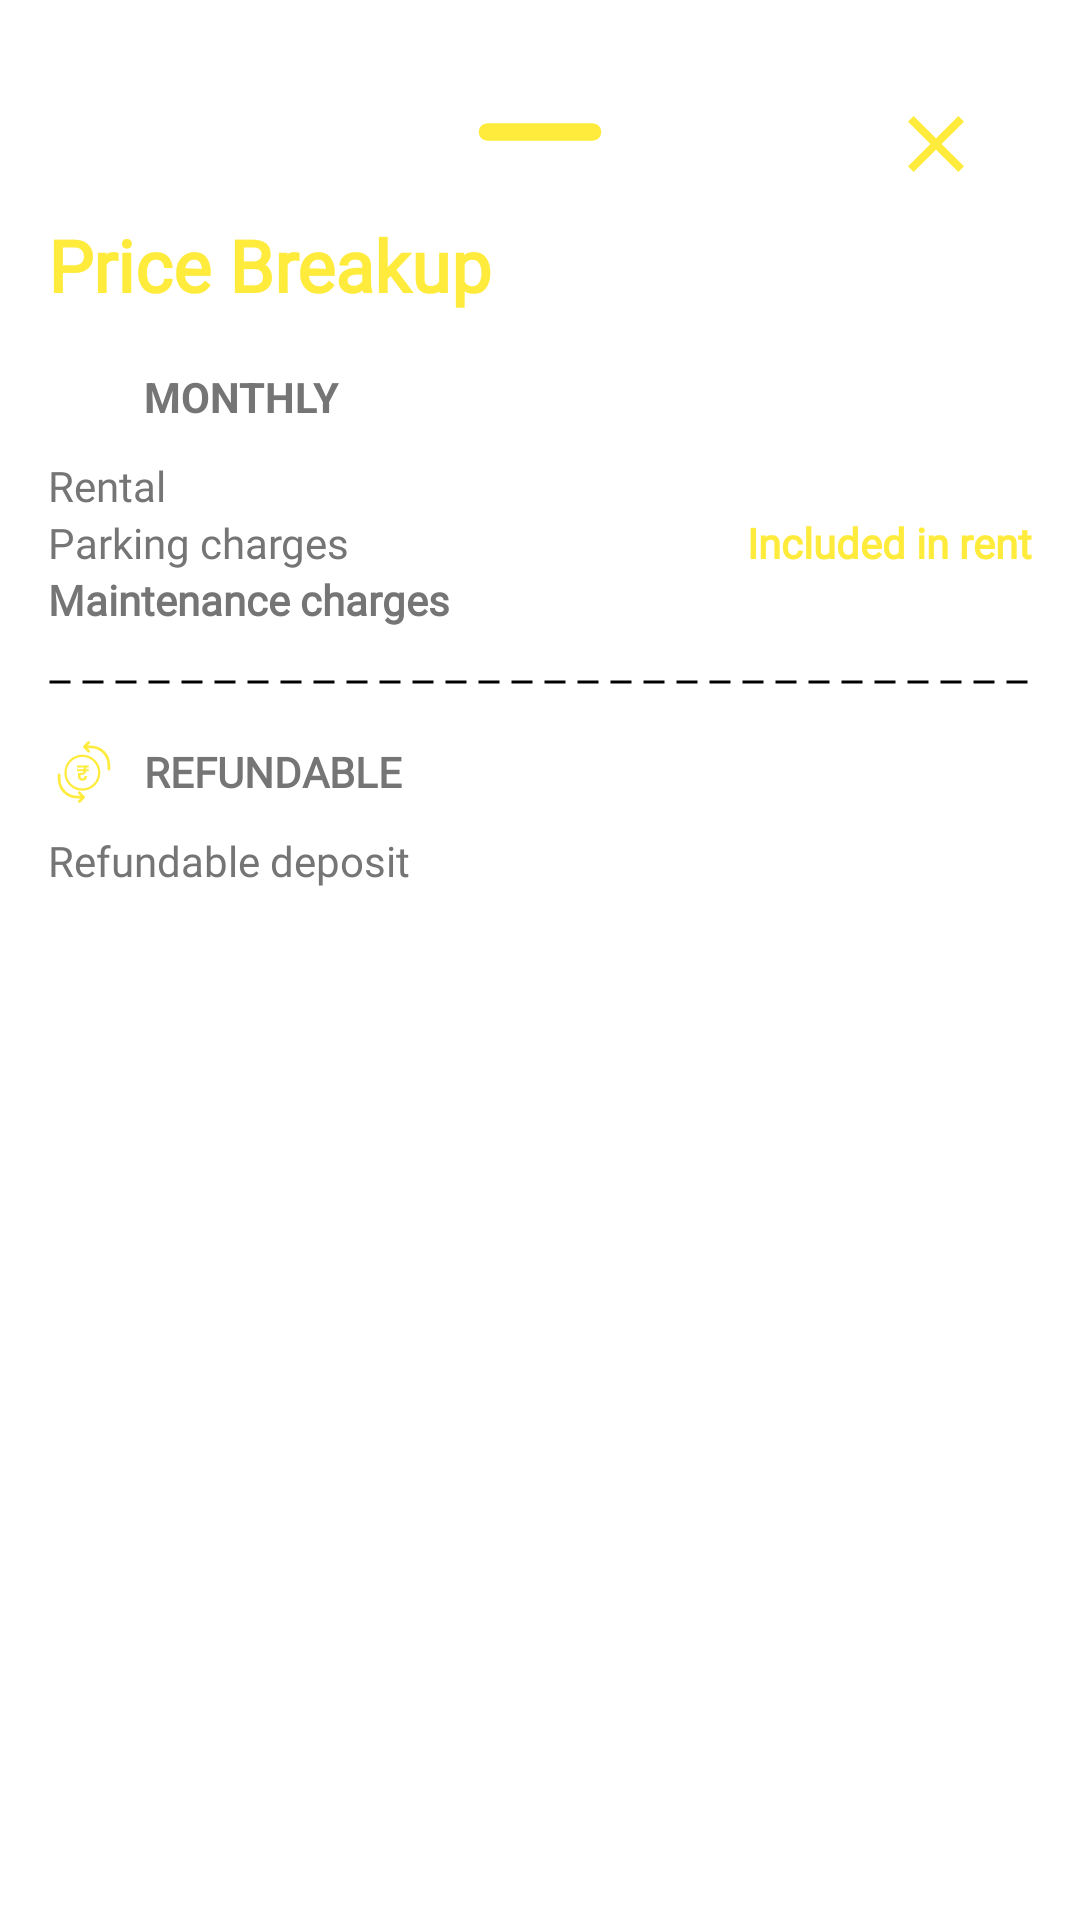

Icon bounding boxes for this 1080×1920 phone screenshot, format {"x1": x1, "y1": y1, "x2": x2, "y2": y2}:
clear: {"x1": 908, "y1": 116, "x2": 964, "y2": 172}
